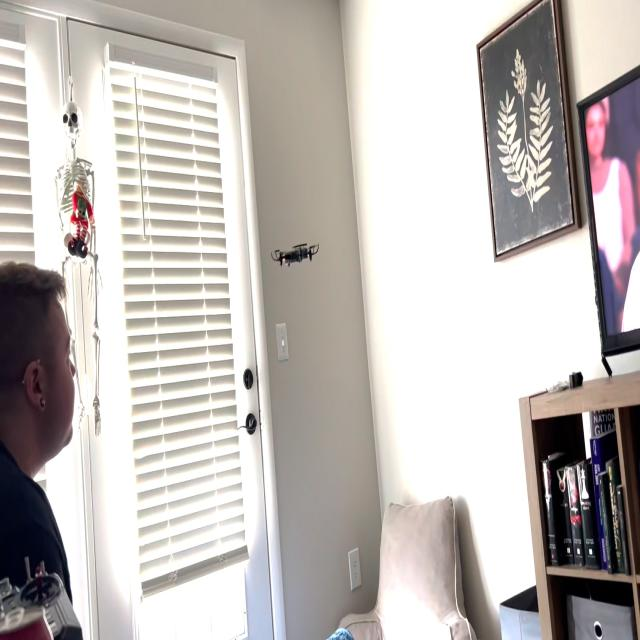drone: (266, 229, 324, 284)
